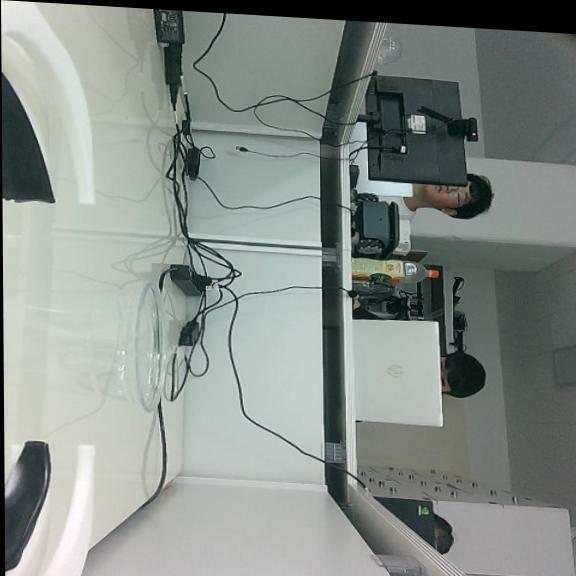Plastik: (2, 281, 167, 413)
